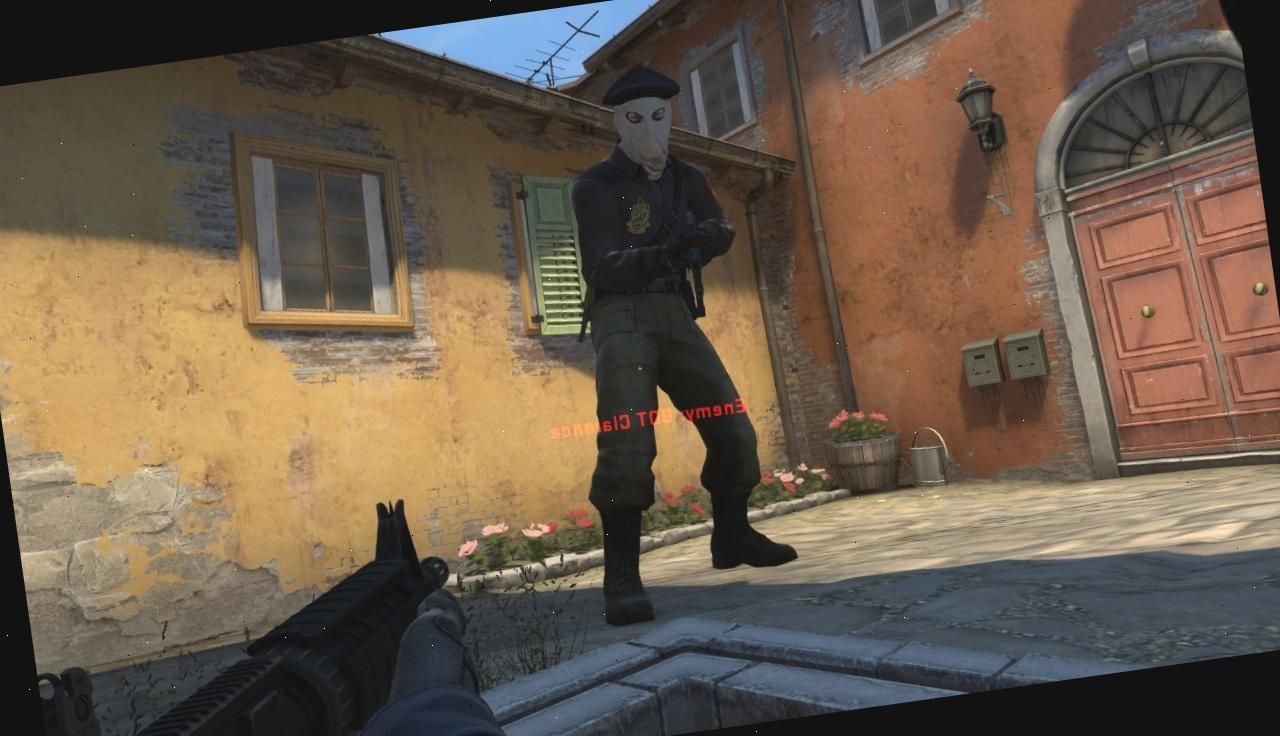rifle: (19, 488, 489, 736)
tt: (552, 65, 764, 622)
tthead: (605, 70, 686, 173)
